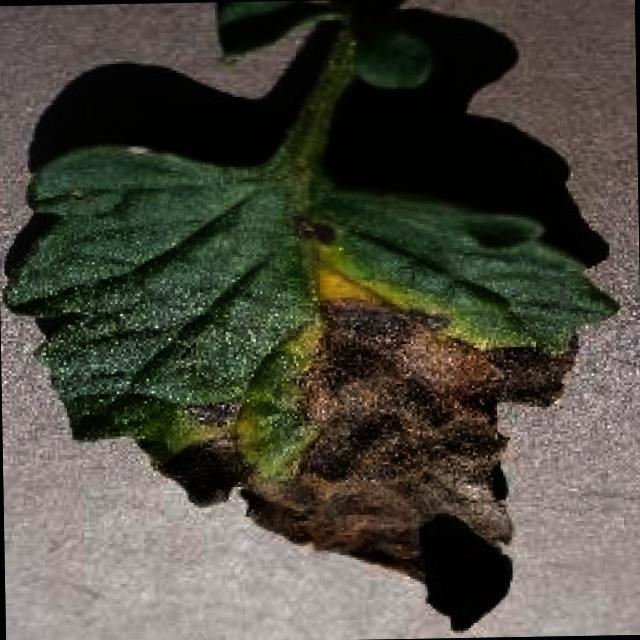Tomato Early blight leaf: (3, 132, 615, 636)
